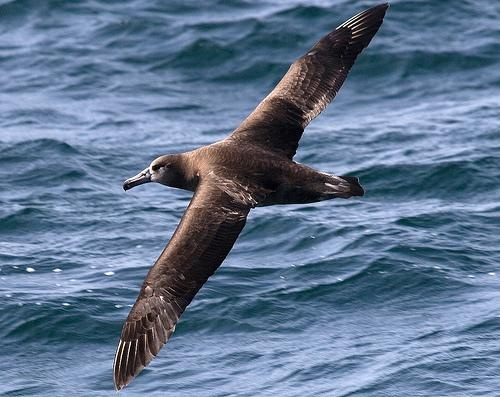bird: (107, 1, 391, 394)
